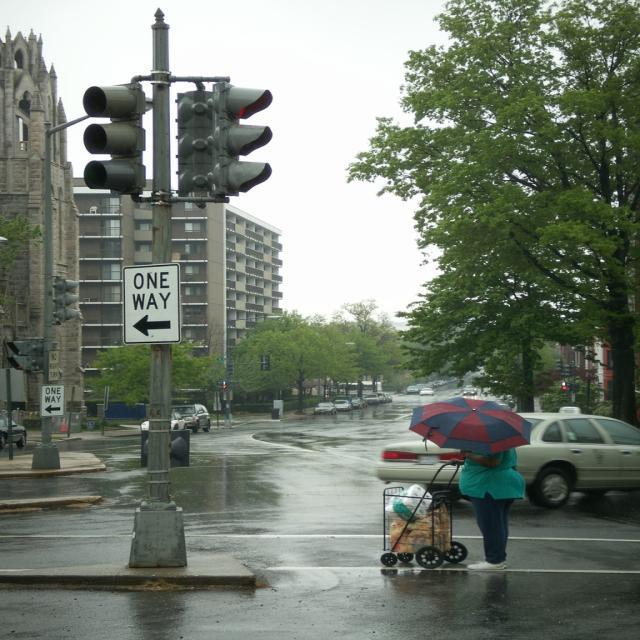off traffic light: (81, 75, 142, 197), (55, 279, 80, 322), (4, 340, 31, 372)
traffic light: (215, 81, 273, 192)
